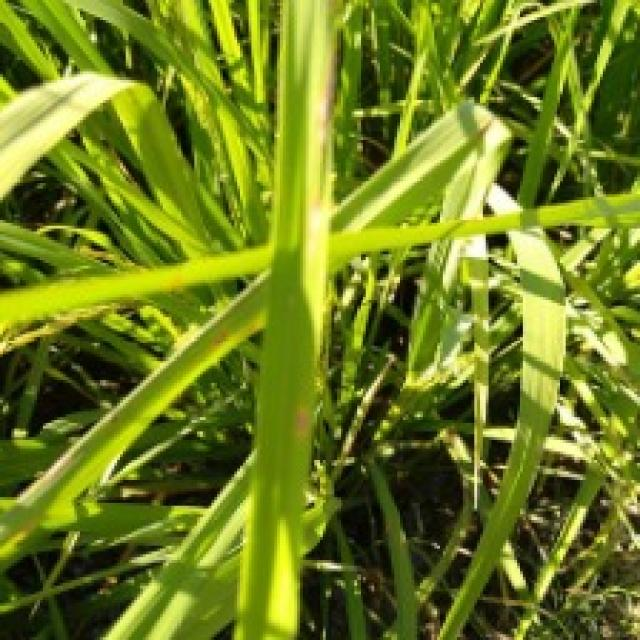Rice___Brown_Spot: (236, 1, 345, 637)
